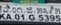character: (54, 14, 61, 23), (28, 13, 35, 21), (42, 13, 49, 21), (49, 13, 55, 22), (5, 13, 12, 20), (37, 13, 43, 21), (14, 13, 20, 20), (20, 13, 25, 21), (1, 12, 5, 20)
